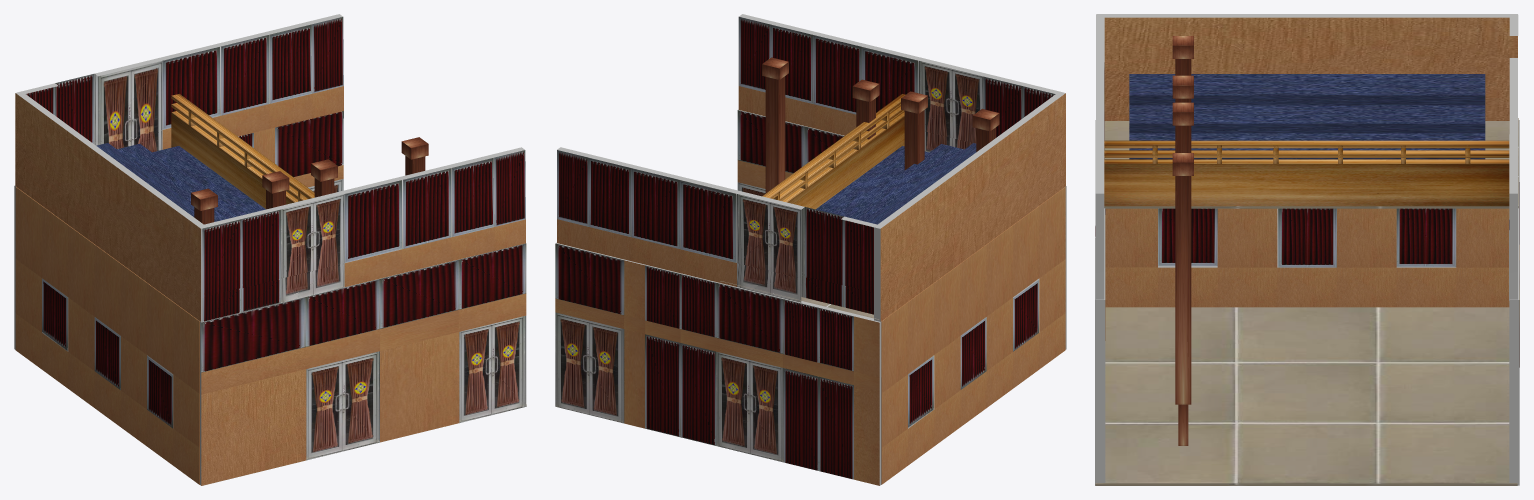
File: tengah.fbx
The picture shows the model from 3 angles, left to right: view 1: azimuth 30°, elevation 25°; view 2: azimuth 150°, elevation 25°; view 3: azimuth 270°, elevation 25°; orthographic projection. The views are drawn at different scales.
Parts seen in each view (by area): view 1: Cube.003; view 2: Cube.003; view 3: Cube.003.
Part boxes in pixels (<box>): Cube.003: <box>14,14,526,485</box>; Cube.003: <box>555,14,1066,485</box>; Cube.003: <box>1095,14,1519,485</box>.
Bounding box in the file's own units: 1618 × 1220 × 1610.
